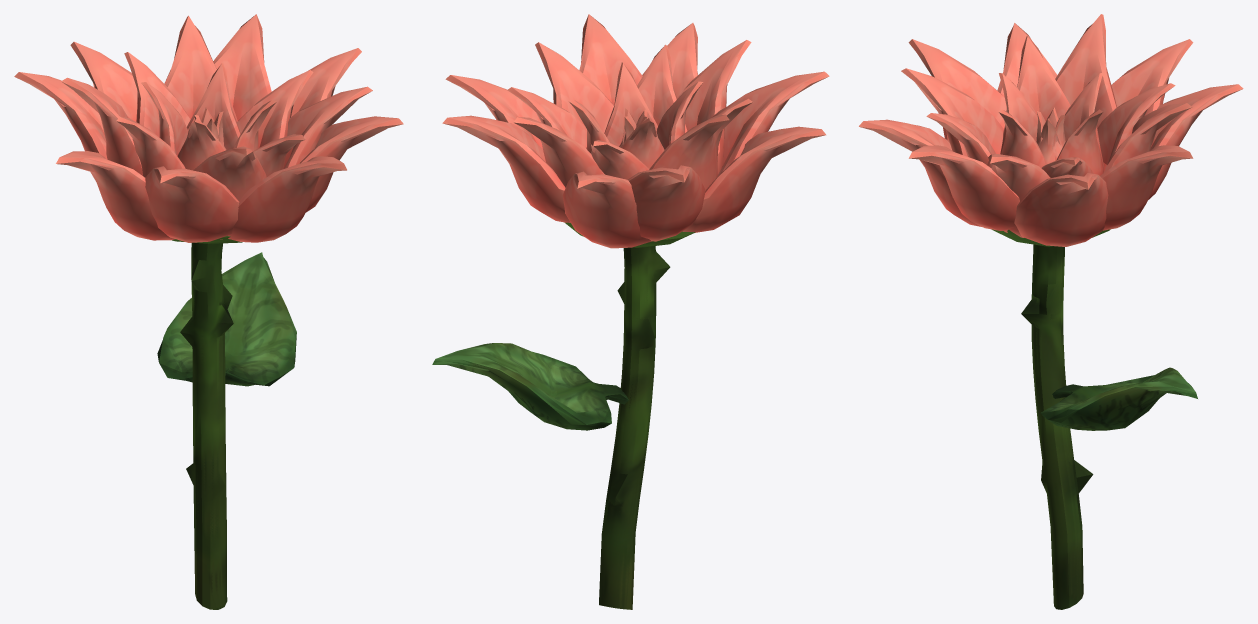
Rendered from flower.glb.
The picture shows the model from 3 angles, left to right: view 1: azimuth 30°, elevation 25°; view 2: azimuth 150°, elevation 25°; view 3: azimuth 270°, elevation 25°; orthographic projection. The views are drawn at different scales.
Visible parts, largest first — view 1: base_escultura_0, base_escultura.002_2, Cylinder_7, base_escultura.003_3, folha_8, base_escultura.004_4, base_escultura.005_5; view 2: base_escultura_0, base_escultura.002_2, Cylinder_7, base_escultura.003_3, folha_8, base_escultura.004_4, base_escultura.005_5; view 3: base_escultura_0, Cylinder_7, base_escultura.002_2, base_escultura.003_3, base_escultura.004_4, folha_8, base_escultura.005_5, base_escultura.006_6.
Part boxes in pixels (box(x1,y1,x2,y2)): base_escultura_0: box(14, 14, 403, 242); base_escultura.002_2: box(56, 41, 361, 242); Cylinder_7: box(172, 236, 242, 609); base_escultura.003_3: box(61, 15, 372, 239); folha_8: box(157, 252, 296, 386); base_escultura.004_4: box(116, 52, 313, 177); base_escultura.005_5: box(141, 63, 276, 170); base_escultura_0: box(442, 14, 829, 241); base_escultura.002_2: box(445, 23, 825, 248); Cylinder_7: box(564, 222, 695, 609); base_escultura.003_3: box(513, 40, 751, 190); folha_8: box(432, 343, 628, 430); base_escultura.004_4: box(507, 44, 752, 179); base_escultura.005_5: box(568, 62, 703, 168); base_escultura_0: box(908, 39, 1193, 230); Cylinder_7: box(991, 229, 1110, 609); base_escultura.002_2: box(859, 23, 1243, 246); base_escultura.003_3: box(901, 14, 1192, 237); base_escultura.004_4: box(926, 36, 1175, 177); folha_8: box(1040, 367, 1197, 430); base_escultura.005_5: box(999, 73, 1103, 175); base_escultura.006_6: box(1036, 107, 1065, 164).
Bounding box in the file's own units: 7.47 × 11.28 × 7.41.
3 materials, 3 textured.
